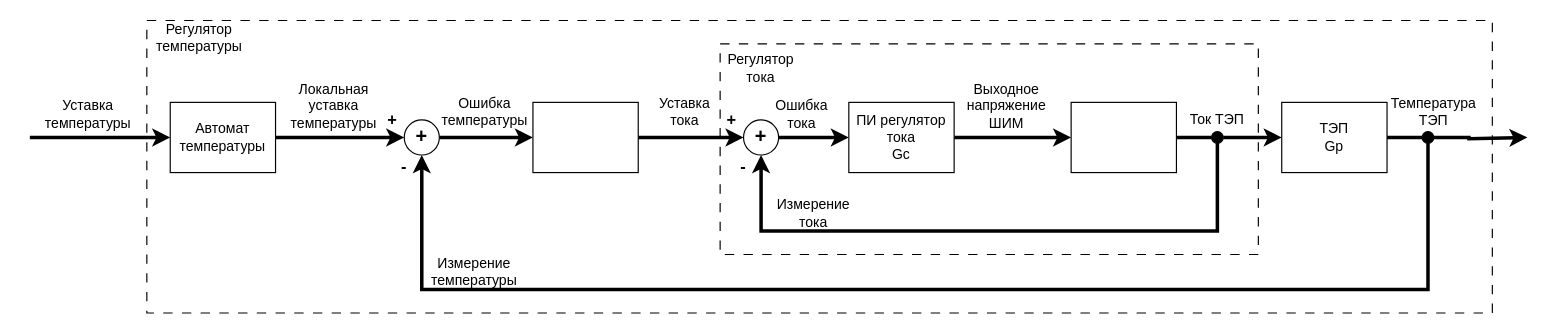
This 1558x333 diagram has some shape labels left out. The shapes that lost their labels are listed below. From the top down, each one's centre as x and y in pixels, then its label:
At point (585, 137): "ПИД регулятор температуры Gt".
At point (1123, 137): "H-мост Gh".
